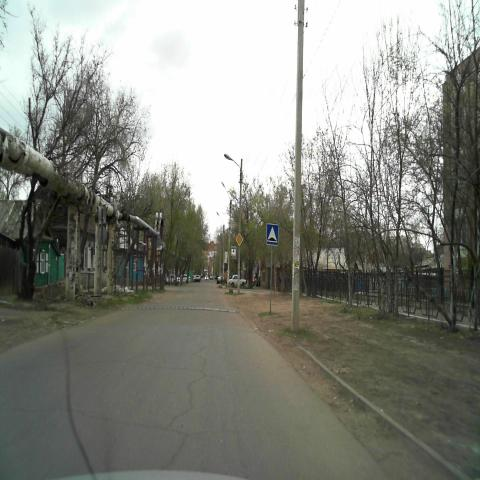2_1: (234, 232, 244, 248)
5_20: (266, 223, 278, 246)
